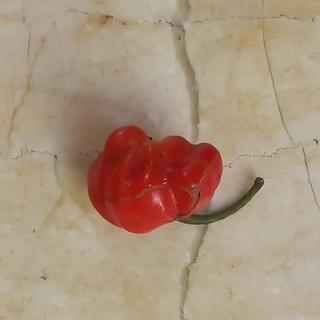Defect: (180, 179, 207, 216)
striped: (102, 182, 170, 203)
